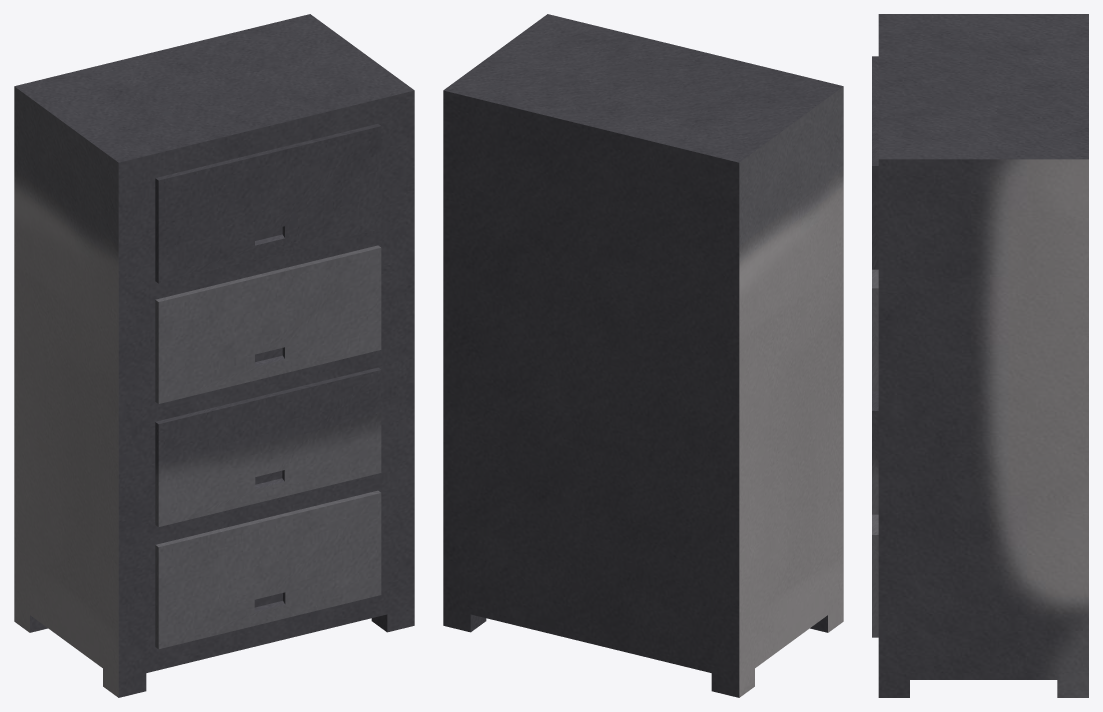
The model's file is iron_drawer1.fbx.
The picture shows the model from 3 angles, left to right: view 1: azimuth 30°, elevation 25°; view 2: azimuth 150°, elevation 25°; view 3: azimuth 270°, elevation 25°; orthographic projection.
Visible parts, largest first — view 1: Cube; view 2: Cube; view 3: Cube.
Boxes of the visible parts, left/top/right/bottom form: Cube: left=14, top=14, right=414, bottom=697; Cube: left=443, top=14, right=843, bottom=697; Cube: left=872, top=14, right=1088, bottom=697.
Size of the model in its own units: 327 by 565 by 206.
